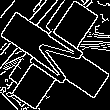M_SE: (21, 22, 89, 88)
